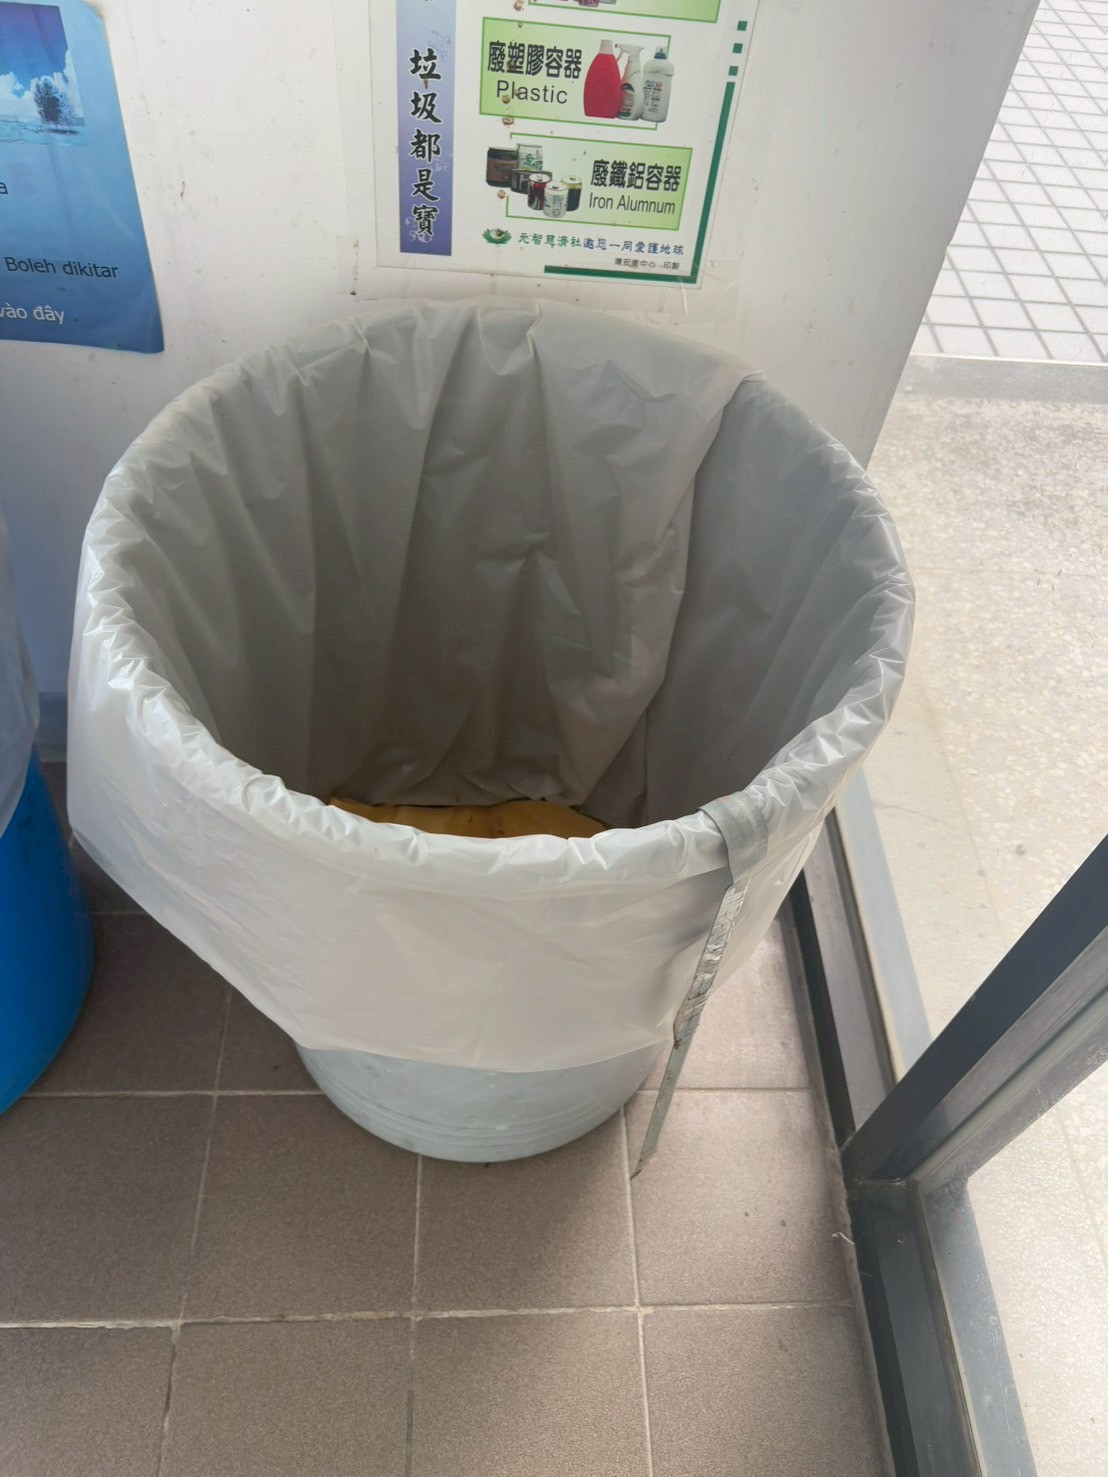normal_bin: (36, 287, 897, 1186)
